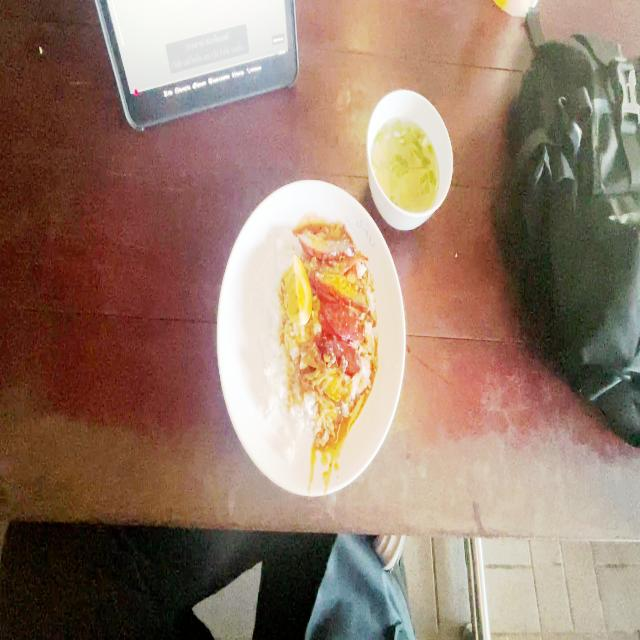boiled_egg: (286, 258, 312, 323)
chainese_sausage: (319, 299, 362, 365)
crispy_pork: (312, 370, 348, 424)
red_pork: (306, 229, 366, 292)
red_pork_and_crispy_pork: (260, 223, 367, 440)
rice: (266, 369, 306, 445), (261, 276, 286, 372), (270, 232, 298, 263)
